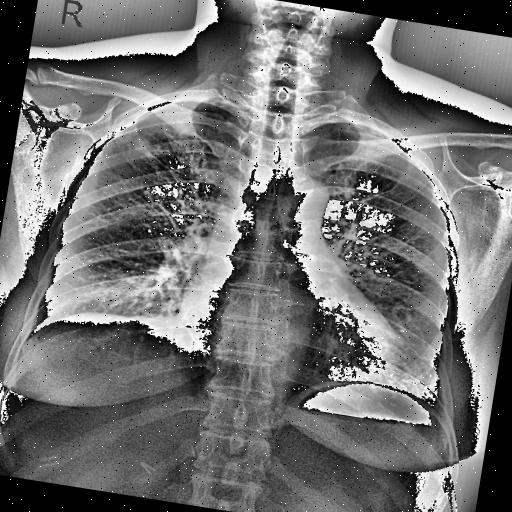11- Pleural thickening: (318, 117, 382, 137)
13- Pulmonary fibrosis: (118, 130, 176, 164), (117, 134, 160, 160)
3- Cardiomegaly: (170, 274, 406, 390), (172, 280, 416, 388), (168, 290, 408, 388)
6- Infiltration: (120, 135, 166, 160)
7- Lung Opacity: (118, 130, 176, 164), (120, 135, 166, 160)
